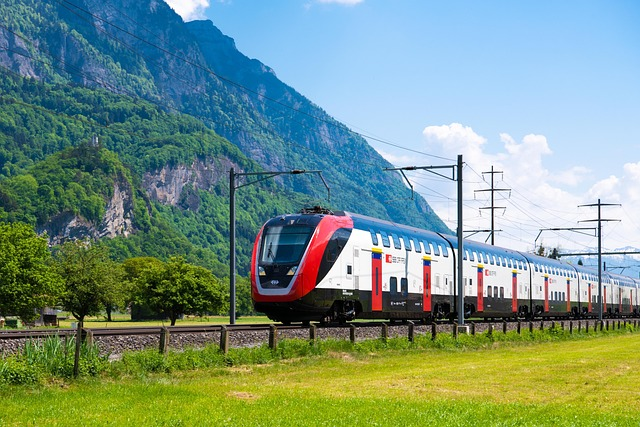train1: (248, 211, 637, 326)
